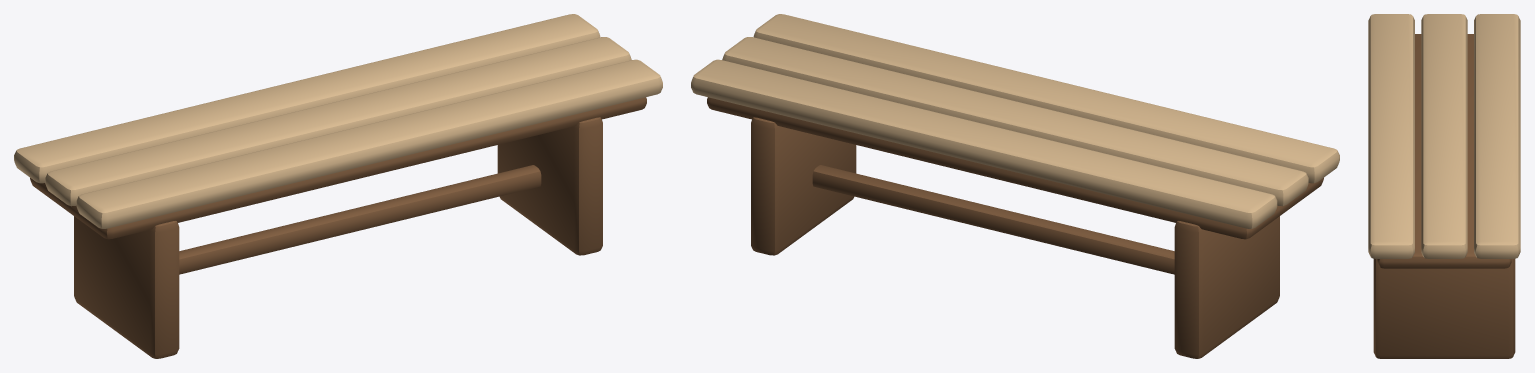
Rendered from bench.glb.
The picture shows the model from 3 angles, left to right: view 1: azimuth 30°, elevation 25°; view 2: azimuth 150°, elevation 25°; view 3: azimuth 270°, elevation 25°; orthographic projection. The views are drawn at different scales.
Visible parts, largest first — view 1: FURN-bench; view 2: FURN-bench; view 3: FURN-bench.
Part boxes in pixels (left/top/right/bottom): FURN-bench: left=14, top=14, right=662, bottom=358; FURN-bench: left=691, top=14, right=1339, bottom=358; FURN-bench: left=1368, top=14, right=1520, bottom=358.
Size of the model in its own units: 1.6 by 0.45 by 0.441.
